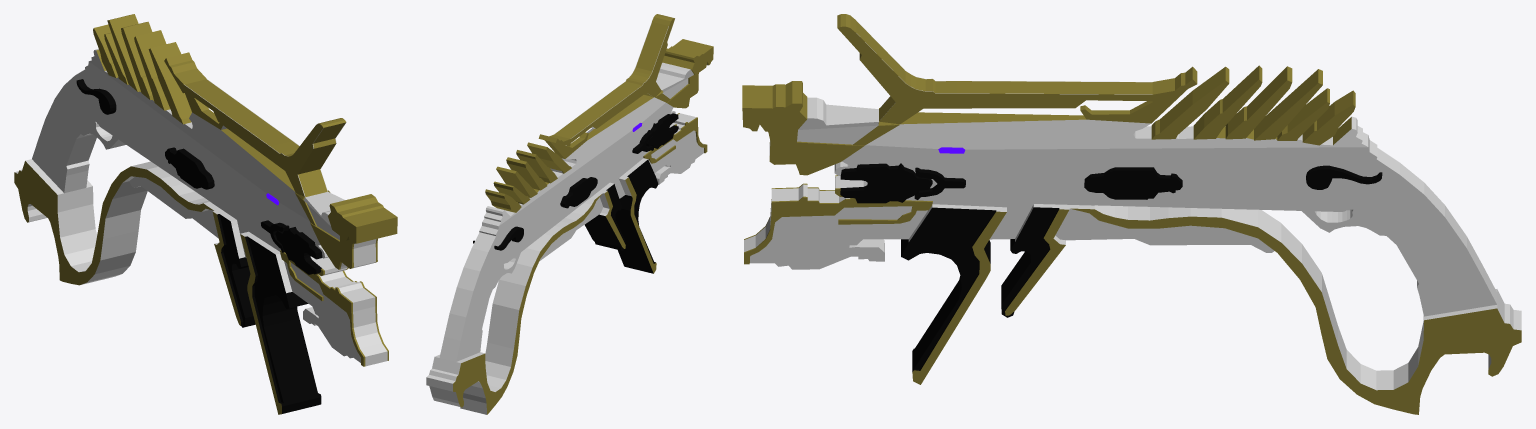
Rendered from ScifiPistol.fbx.
The picture shows the model from 3 angles, left to right: view 1: azimuth 30°, elevation 25°; view 2: azimuth 150°, elevation 25°; view 3: azimuth 270°, elevation 25°; orthographic projection. The views are drawn at different scales.
Visible parts, largest first — view 1: Scifi Pistol; view 2: Scifi Pistol; view 3: Scifi Pistol.
Part boxes in pixels (left/top/right/bottom): Scifi Pistol: left=14, top=14, right=397, bottom=414; Scifi Pistol: left=426, top=14, right=713, bottom=414; Scifi Pistol: left=742, top=14, right=1521, bottom=414.
Bounding box in the file's own units: 7.23 × 57.17 × 105.
